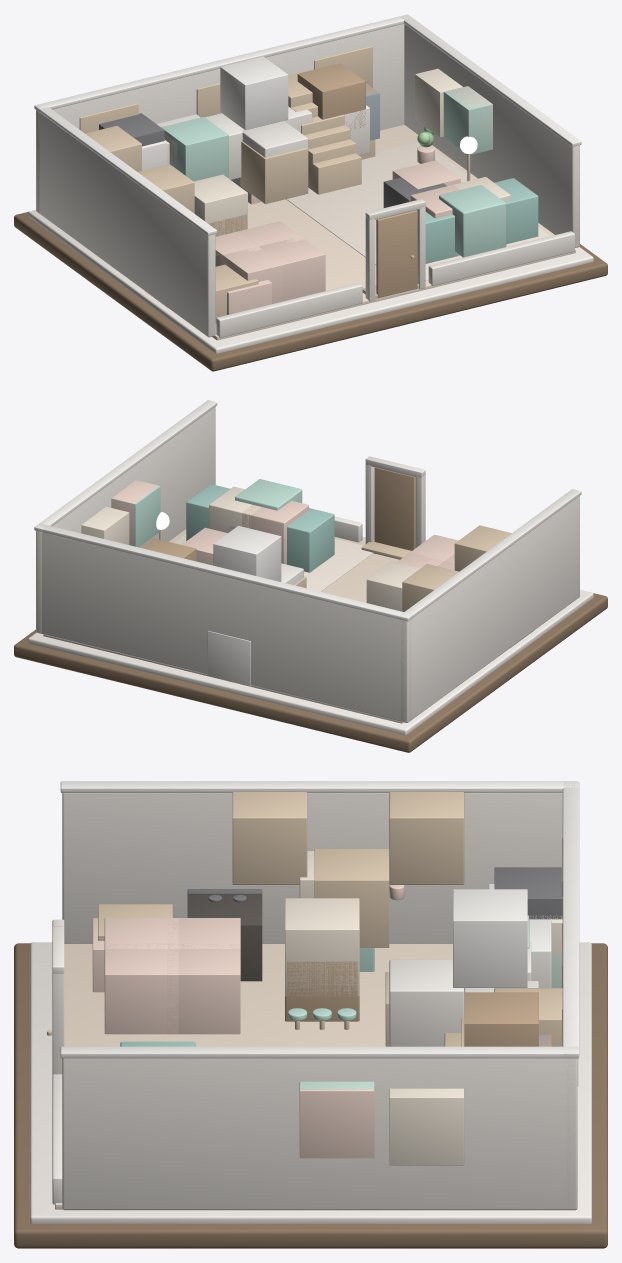
File: house-l1.glb
3 views of the same model, one above another, from view 1: azimuth 30°, elevation 25°; view 2: azimuth 150°, elevation 25°; view 3: azimuth 270°, elevation 25° (orthographic). The views are drawn at different scales.
Visible parts, largest first — view 1: WallWest, WallEast, Plinth, WallNorth, Skirt, Floor, FloorInlay, CoreCap, SofaBack, Door, WallNorthCap, K_FridgeDoor (+42 smaller); view 2: WallNorth, WallWest, Plinth, WallEast, Skirt, WallNorthCap, Door, CoreCap, SofaArmL, Floor, WallEastCap, WallWestCap (+20 smaller); view 3: WallEast, WallWest, Plinth, Skirt, Floor, CoreCap, K_UpperL, K_UpperR, K_IslandTop, WallEastCap, D_Back1, D_Back3 (+22 smaller).
Boxes of the visible parts, x1,y1,x2,y2 form: WallWest: (39, 112, 215, 337); WallEast: (404, 24, 579, 247); Plinth: (14, 211, 607, 371); WallNorth: (36, 24, 404, 213); Skirt: (28, 210, 593, 353); Floor: (212, 124, 575, 340); FloorInlay: (286, 142, 550, 280); CoreCap: (220, 56, 288, 130); SofaBack: (439, 185, 506, 257); Door: (376, 210, 417, 298); WallNorthCap: (34, 15, 412, 111); K_FridgeDoor: (161, 117, 228, 181); WallNorth: (36, 531, 411, 722); WallWest: (401, 496, 579, 722); Plinth: (14, 593, 607, 752); WallEast: (36, 407, 215, 633); Skirt: (28, 537, 593, 734); WallNorthCap: (34, 523, 413, 621); Door: (374, 467, 415, 550); CoreCap: (213, 526, 281, 581); SofaArmL: (287, 508, 334, 572); Floor: (43, 529, 403, 723); WallEastCap: (34, 400, 217, 532); WallWestCap: (399, 489, 581, 619); WallEast: (62, 1058, 577, 1210); WallWest: (62, 793, 562, 943); Plinth: (14, 943, 607, 1248); Skirt: (30, 942, 591, 1223); Floor: (55, 944, 452, 1209); CoreCap: (453, 889, 527, 987); K_UpperL: (389, 792, 464, 884); K_UpperR: (232, 792, 307, 884); K_IslandTop: (285, 898, 359, 996); WallEastCap: (60, 1046, 578, 1058); D_Back1: (104, 943, 178, 1034); D_Back3: (167, 943, 240, 1034).
Bounding box in the file's own units: 9.15 × 3.02 × 7.95.
